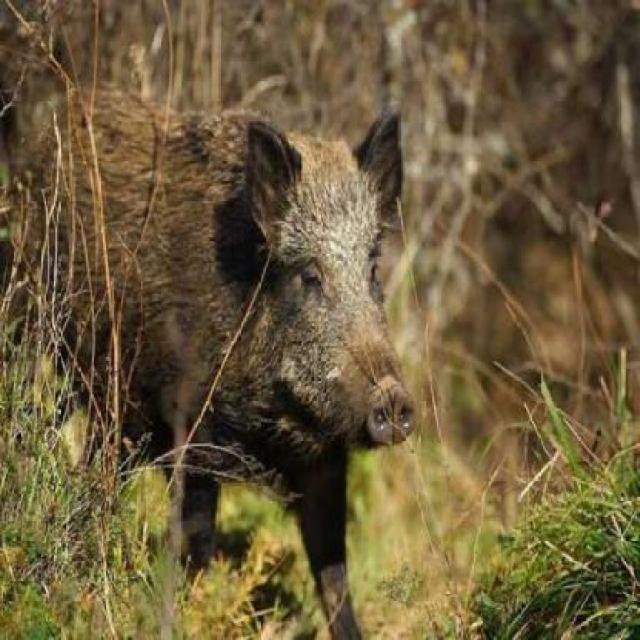WildBoar: (17, 39, 428, 604)
